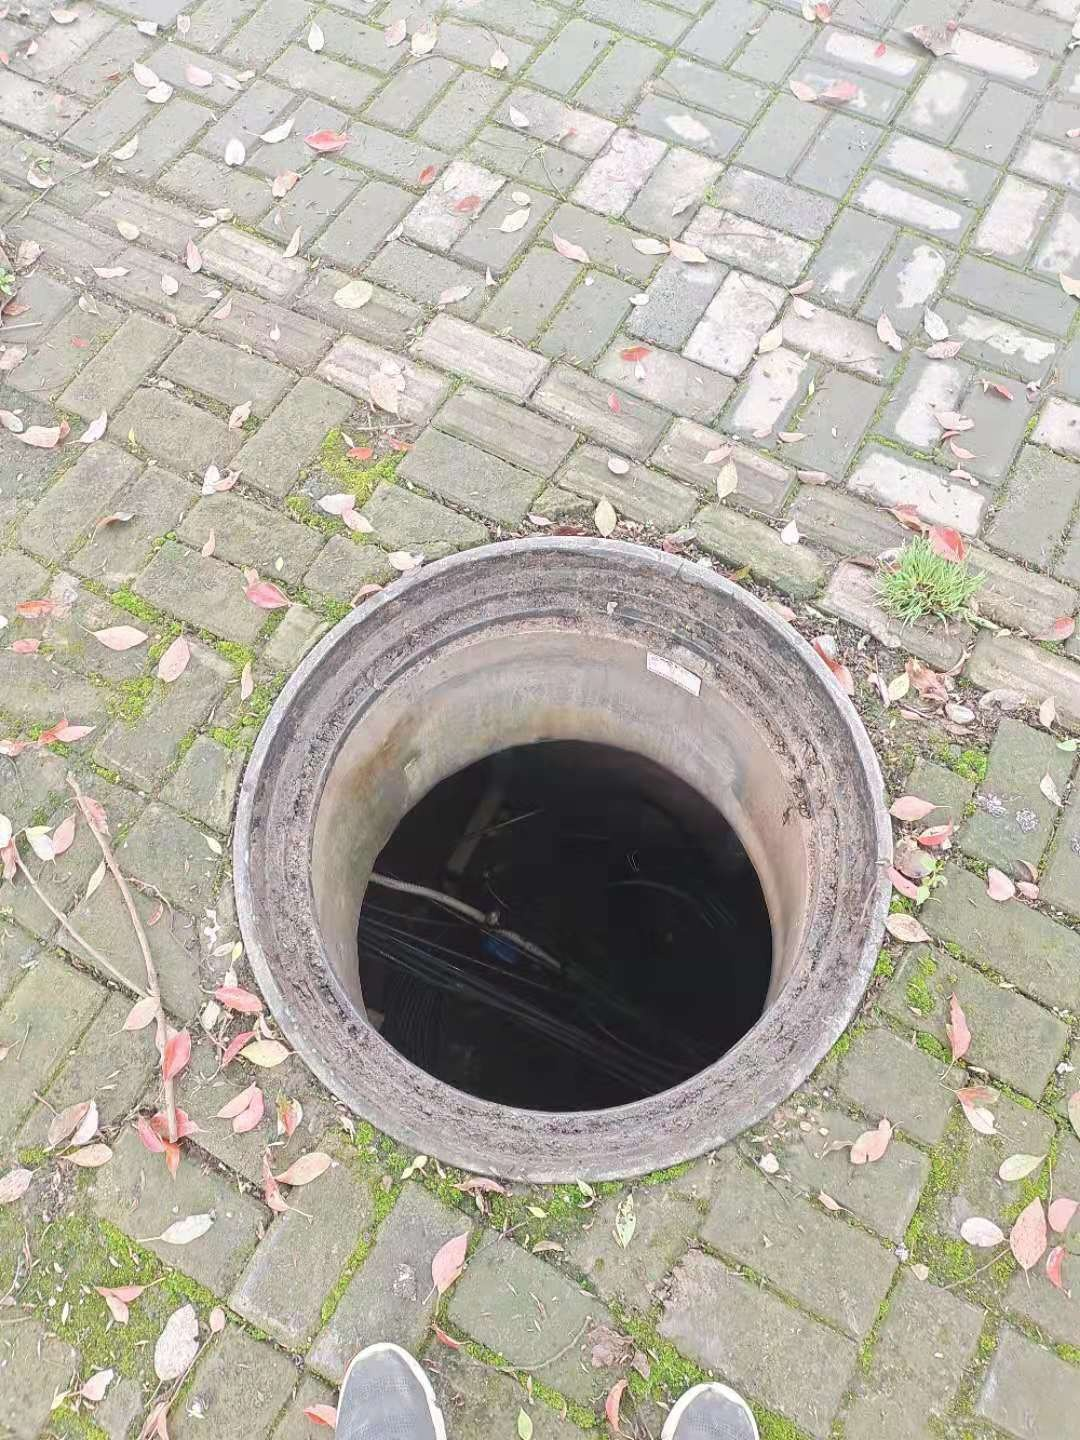lose: (233, 533, 895, 1195)
